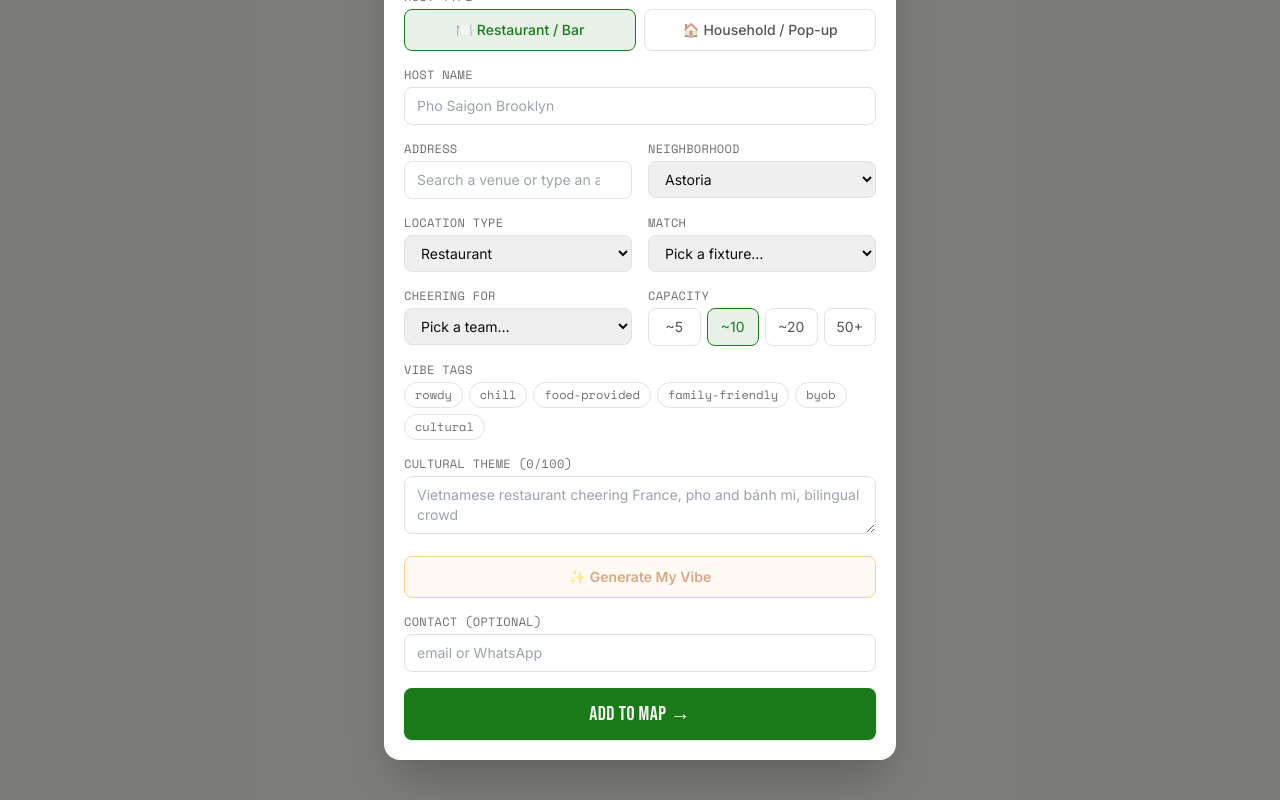
Scenario: HostModal › blocks submit and shows an error when required fields are missing
The image size is (1280, 800).
(page scrolled)
Click the button "Add to Map →" at (640, 714), box [404,688,876,740]
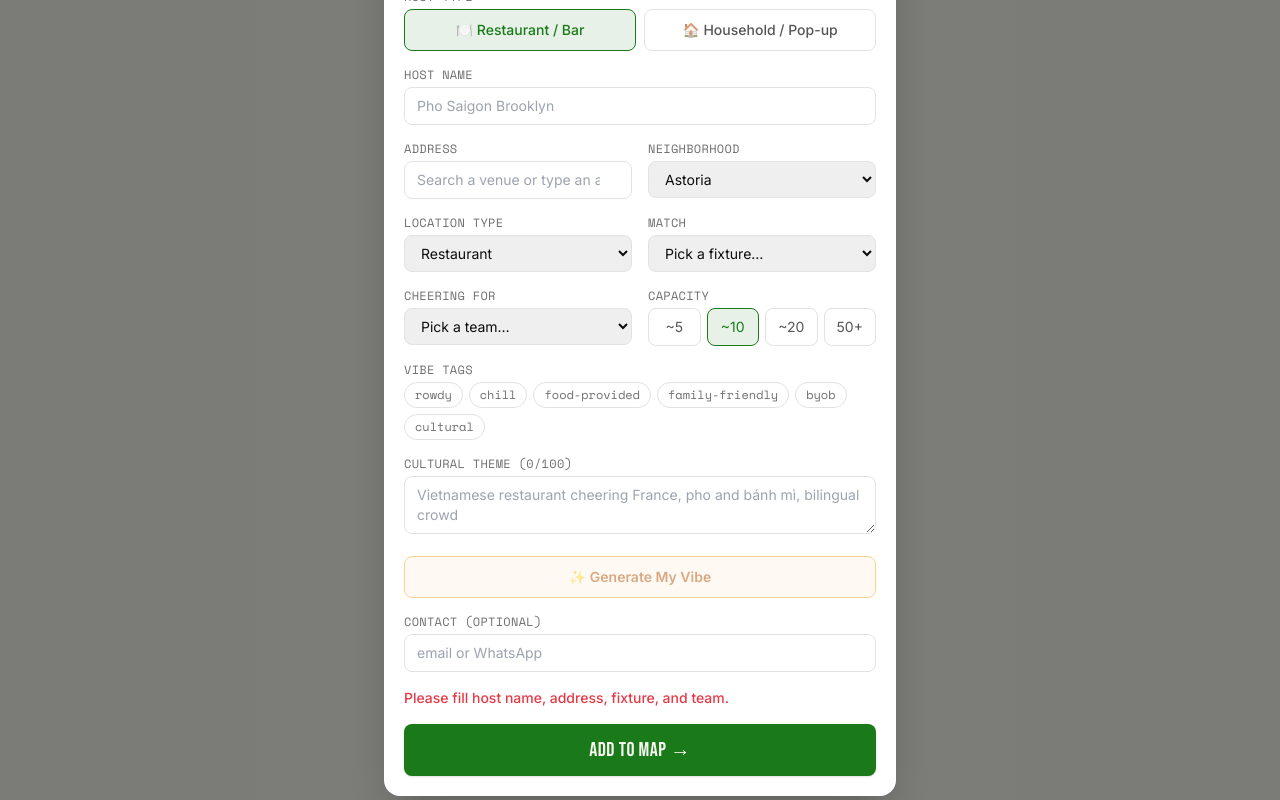
Now the text "Please fill host name, address, fixture, and team." is shown, box [404,689,729,706]
